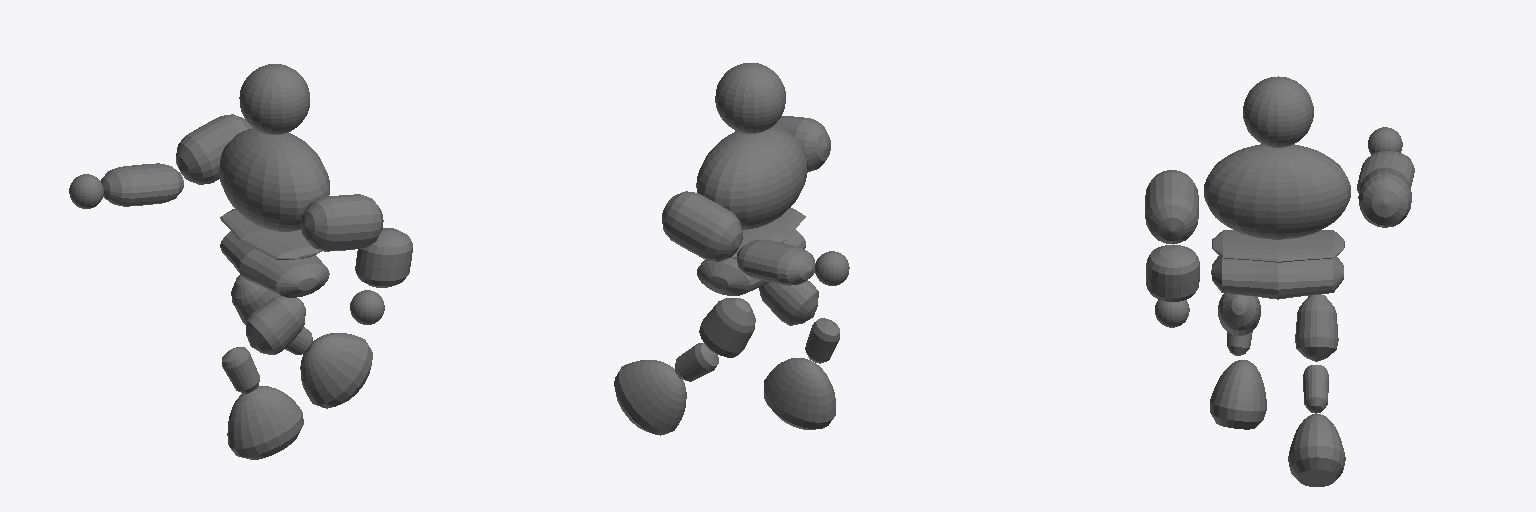
The model's file is PTwo3.obj.
3 views of the same model, side by side, from view 1: azimuth 30°, elevation 25°; view 2: azimuth 150°, elevation 25°; view 3: azimuth 270°, elevation 25° (orthographic).
Visible parts, largest first — view 1: pSphere1, pasted__pasted__pasted__pSphere1 pasted__pasted__group pasted__g, pasted__pasted__pSphere1 pasted__group group3, pSphere3, pasted__pCylinder2 group12, pCylinder1, pasted__pasted__pasted__pCylinder2 pasted__pasted__group13 paste, pCylinder2, pasted__pasted__pasted__pasted__pCylinder1 pasted__pasted__paste, pasted__pasted__pCylinder2 pasted__group13 group14, pasted__pasted__pasted__pCylinder1 pasted__pasted__group4 pasted, pasted__pCylinder1 group11 (+2 smaller); view 2: pSphere1, pasted__pasted__pSphere1 pasted__group group3, pCylinder2, pasted__pasted__pasted__pSphere1 pasted__pasted__group pasted__g, pSphere3, pasted__pasted__pasted__pCylinder1 pasted__pasted__group4 pasted, pasted__pasted__pasted__pCylinder2 pasted__pasted__group13 paste, pasted__pasted__pasted__pasted__pCylinder1 pasted__pasted__paste, pCylinder1, pasted__pCylinder2 group12, pasted__pCylinder1 group11, pasted__pasted__pCylinder1 pasted__group4 group8 (+1 smaller); view 3: pSphere1, pCylinder1, pSphere3, pasted__pCylinder2 group12, pasted__pCylinder1 group11, pasted__pasted__pSphere1 pasted__group group3, pasted__pasted__pasted__pSphere1 pasted__pasted__group pasted__g, pasted__pasted__pasted__pCylinder1 pasted__pasted__group4 pasted, pasted__pasted__pCylinder2 pasted__group13 group14, pCylinder2, pasted__pasted__pasted__pasted__pCylinder1 pasted__pasted__paste, pasted__pasted__pCylinder1 pasted__group4 group8 (+3 smaller).
Boxes of the visible parts, <box> form: pSphere1: <box>219,128,329,231</box>; pasted__pasted__pasted__pSphere1 pasted__pasted__group pasted__g: <box>227,386,303,459</box>; pasted__pasted__pSphere1 pasted__group group3: <box>300,333,372,408</box>; pSphere3: <box>239,64,309,134</box>; pasted__pCylinder2 group12: <box>301,194,383,251</box>; pCylinder1: <box>220,231,329,297</box>; pasted__pasted__pasted__pCylinder2 pasted__pasted__group13 paste: <box>101,163,183,206</box>; pCylinder2: <box>176,114,252,184</box>; pasted__pasted__pasted__pasted__pCylinder1 pasted__pasted__paste: <box>246,296,305,354</box>; pasted__pasted__pCylinder2 pasted__group13 group14: <box>355,228,412,287</box>; pasted__pasted__pasted__pCylinder1 pasted__pasted__group4 pasted: <box>222,275,280,393</box>; pasted__pCylinder1 group11: <box>220,209,321,259</box>; pSphere1: <box>696,126,806,229</box>; pasted__pasted__pSphere1 pasted__group group3: <box>614,360,686,435</box>; pCylinder2: <box>662,191,742,261</box>; pasted__pasted__pasted__pSphere1 pasted__pasted__group pasted__g: <box>764,358,835,429</box>; pSphere3: <box>715,63,785,133</box>; pasted__pasted__pasted__pCylinder1 pasted__pasted__group4 pasted: <box>699,298,839,363</box>; pasted__pasted__pasted__pCylinder2 pasted__pasted__group13 paste: <box>736,240,815,285</box>; pasted__pasted__pasted__pasted__pCylinder1 pasted__pasted__paste: <box>759,280,818,325</box>; pCylinder1: <box>697,229,805,295</box>; pasted__pCylinder2 group12: <box>774,116,830,172</box>; pasted__pCylinder1 group11: <box>731,207,805,258</box>; pasted__pasted__pCylinder1 pasted__group4 group8: <box>675,343,718,381</box>; pSphere1: <box>1204,144,1350,239</box>; pCylinder1: <box>1211,256,1343,299</box>; pSphere3: <box>1243,76,1313,147</box>; pasted__pCylinder2 group12: <box>1145,170,1198,243</box>; pasted__pCylinder1 group11: <box>1212,230,1344,262</box>; pasted__pasted__pSphere1 pasted__group group3: <box>1288,414,1345,486</box>; pasted__pasted__pasted__pSphere1 pasted__pasted__group pasted__g: <box>1210,360,1266,429</box>; pasted__pasted__pasted__pCylinder1 pasted__pasted__group4 pasted: <box>1227,294,1338,361</box>; pasted__pasted__pCylinder2 pasted__group13 group14: <box>1146,244,1199,301</box>; pCylinder2: <box>1358,167,1411,227</box>; pasted__pasted__pasted__pasted__pCylinder1 pasted__pasted__paste: <box>1218,293,1260,335</box>; pasted__pasted__pCylinder1 pasted__group4 group8: <box>1303,365,1328,413</box>.
Bounding box in the file's own units: 4.57 × 6.12 × 4.05.